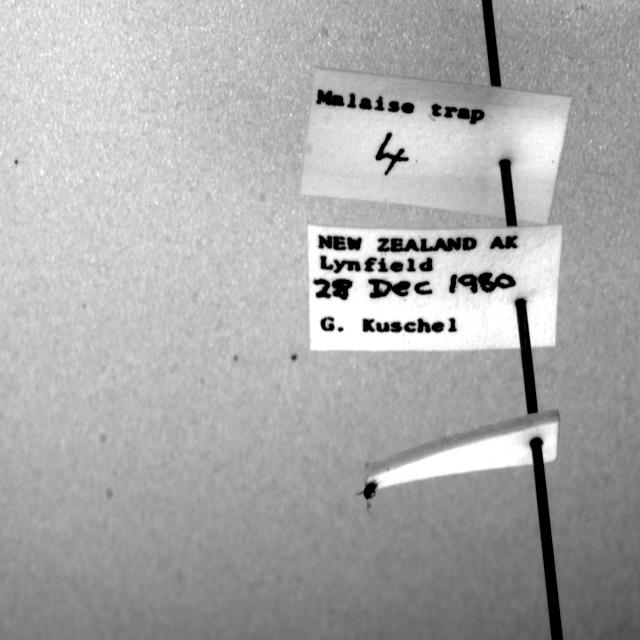mixed_label: (301, 68, 571, 225), (308, 225, 562, 351)
